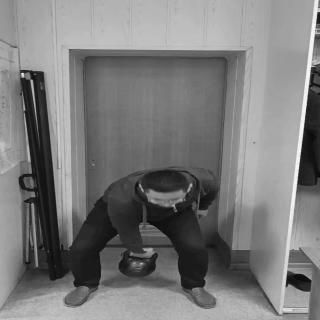kettlebell: (119, 251, 161, 282)
